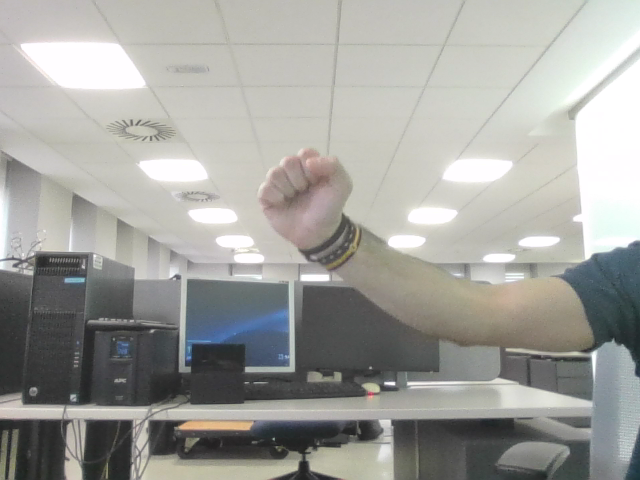Puño: (269, 153, 339, 211)
